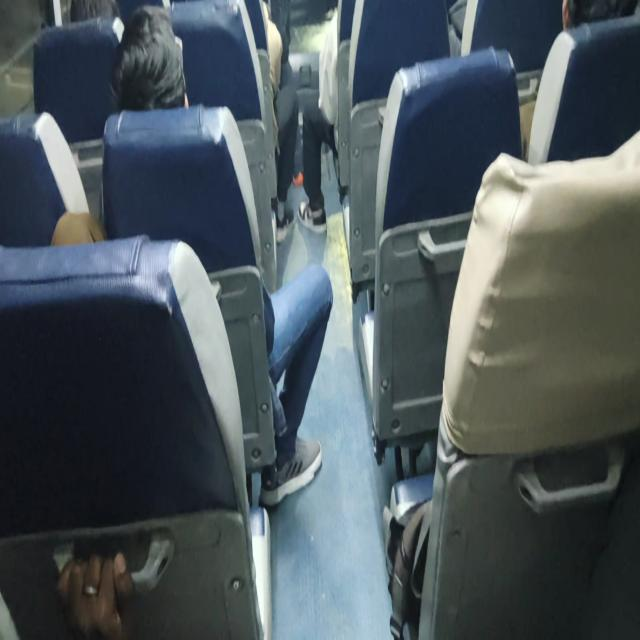person: (50, 5, 334, 509), (109, 4, 189, 112), (56, 548, 136, 638)
